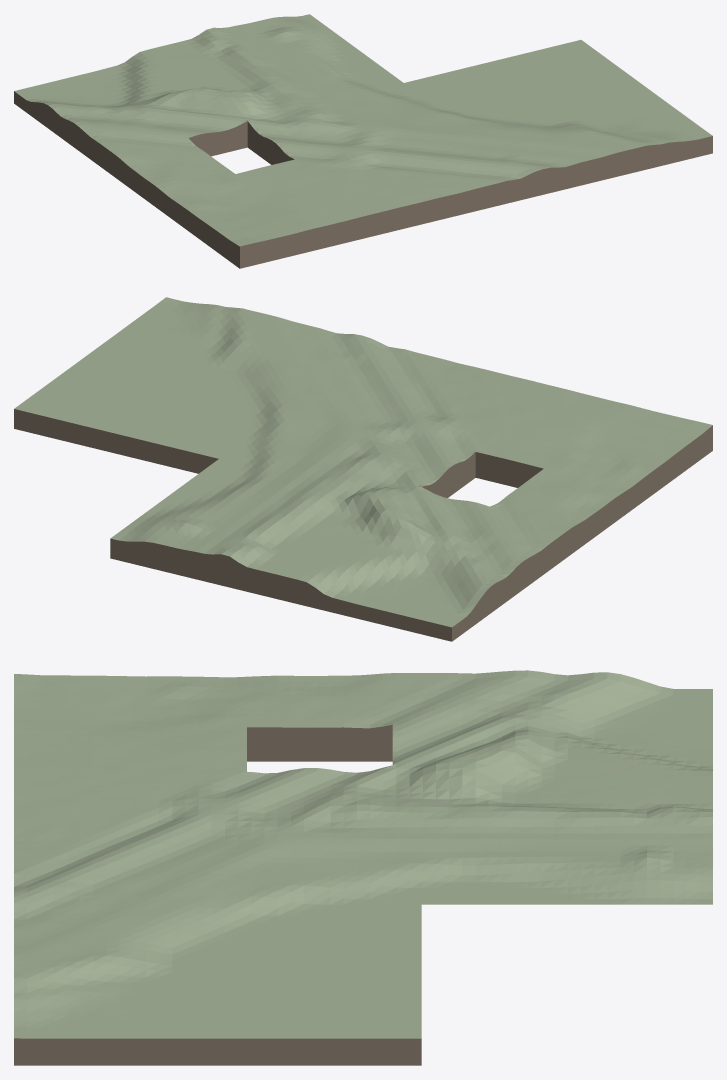
File: willow-bend-measured-terrain.glb
The picture shows the model from 3 angles, top to bottom: view 1: azimuth 30°, elevation 25°; view 2: azimuth 150°, elevation 25°; view 3: azimuth 270°, elevation 25°; orthographic projection. The views are drawn at different scales.
Parts seen in each view (by area): view 1: USGS 3DEP terrain, Illustrative cutaway; view 2: USGS 3DEP terrain, Illustrative cutaway; view 3: USGS 3DEP terrain, Illustrative cutaway.
Boxes of the visible parts, <box> form: USGS 3DEP terrain: <box>14,14,712,246</box>; Illustrative cutaway: <box>14,91,712,268</box>; USGS 3DEP terrain: <box>14,297,712,627</box>; Illustrative cutaway: <box>14,409,712,641</box>; USGS 3DEP terrain: <box>14,670,712,1038</box>; Illustrative cutaway: <box>14,725,421,1065</box>.
Size of the model in its own units: 323 by 22.06 by 267.
